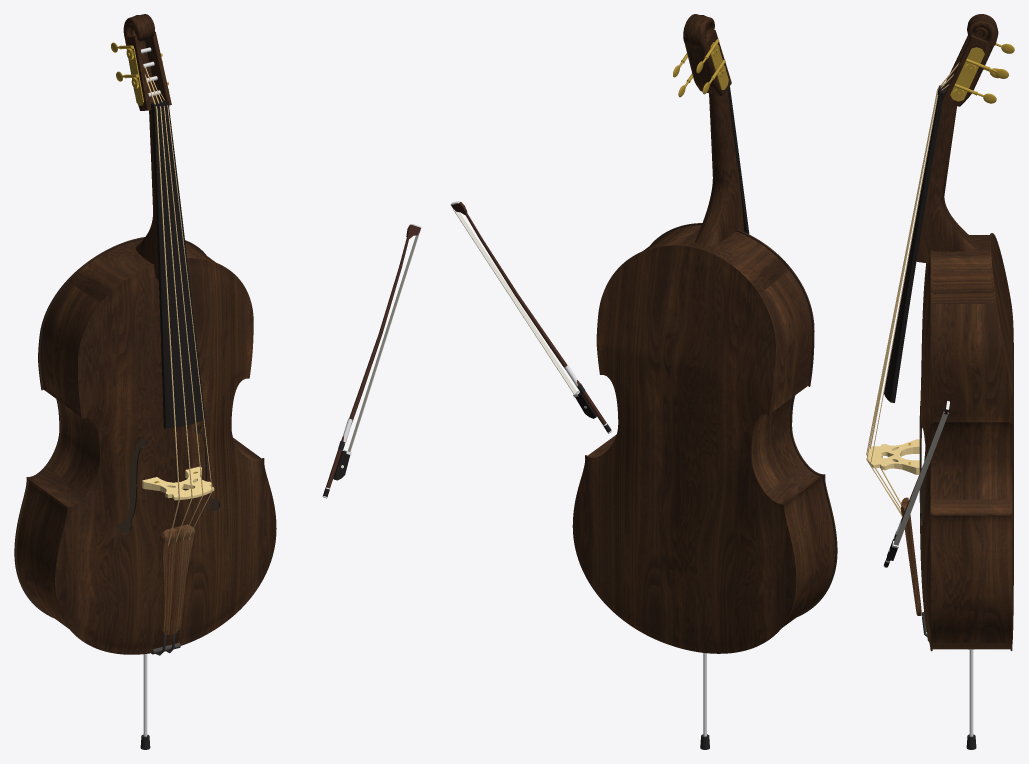
The model's file is kontrabass.glb.
3 renders of one model, left to right at view 1: azimuth 30°, elevation 25°; view 2: azimuth 150°, elevation 25°; view 3: azimuth 270°, elevation 25°, orthographic.
Parts seen in each view (by area): view 1: Korpus, Griffbrett, Saitenhalter, Bogen, Wirbelkasten, Steg, Hals, Mechanik, Saite_E, Saite_A, Saite_D, Schnecke; view 2: Korpus, Hals, Bogen, Wirbelkasten, Mechanik, Schnecke; view 3: Korpus, Hals, Griffbrett, Mechanik, Steg, Bogen, Wirbelkasten, Saitenhalter, Schnecke, Saite_A, Saite_D, Saite_G (+2 smaller).
Part boxes in pixels (box(x1,y1,x2,y2)): Korpus: box(14, 237, 276, 654); Griffbrett: box(152, 107, 205, 428); Saitenhalter: box(160, 524, 195, 634); Bogen: box(322, 224, 421, 498); Wirbelkasten: box(124, 31, 171, 110); Steg: box(142, 466, 214, 500); Hals: box(135, 101, 158, 279); Mechanik: box(111, 42, 168, 105); Saite_E: box(145, 74, 179, 545); Saite_A: box(144, 66, 192, 542); Saite_D: box(152, 79, 203, 540); Schnecke: box(123, 14, 154, 41); Korpus: box(572, 223, 837, 653); Hals: box(695, 90, 744, 246); Bogen: box(450, 201, 611, 433); Wirbelkasten: box(685, 29, 731, 95); Mechanik: box(673, 39, 728, 97); Schnecke: box(683, 14, 714, 48); Korpus: box(919, 233, 1013, 651); Hals: box(916, 90, 979, 263); Griffbrett: box(884, 97, 942, 402); Mechanik: box(950, 43, 1014, 103); Steg: box(867, 439, 919, 474); Bogen: box(883, 400, 949, 567); Wirbelkasten: box(942, 35, 993, 106); Saitenhalter: box(901, 497, 921, 615); Schnecke: box(967, 14, 998, 46); Saite_A: box(866, 74, 953, 509); Saite_D: box(866, 84, 949, 513); Saite_G: box(870, 95, 938, 516).
Bounding box in the file's own units: 1.12 × 2.07 × 0.3818.
15 materials, 2 textured.
